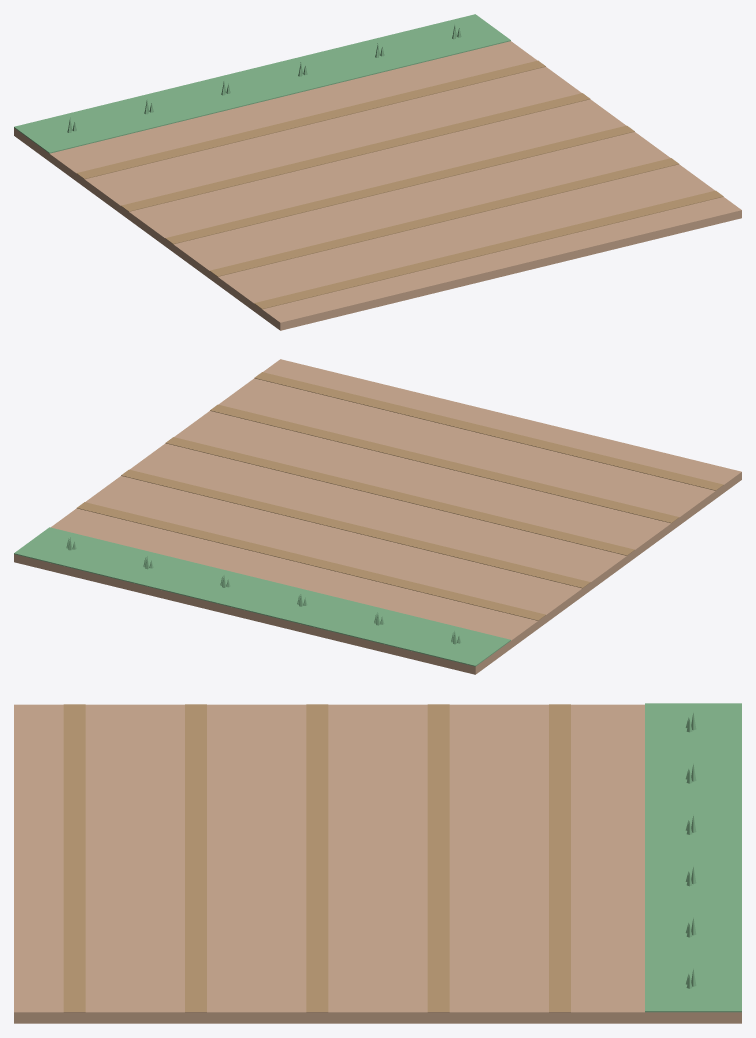
Rendered from baseball-park-and-batting-cages-warning-track-tile-6a37d622__33742.glb.
3 views of the same model, one above another, from view 1: azimuth 30°, elevation 25°; view 2: azimuth 150°, elevation 25°; view 3: azimuth 270°, elevation 25° (orthographic). The views are drawn at different scales.
Parts seen in each view (by area): view 1: warning-track-tile; view 2: warning-track-tile; view 3: warning-track-tile.
Part boxes in pixels (x1=…): warning-track-tile: x1=14, y1=14, x2=741, y2=330; warning-track-tile: x1=14, y1=359, x2=741, y2=674; warning-track-tile: x1=14, y1=703, x2=741, y2=1023.
Size of the model in its own units: 6 by 0.2722 by 6.
